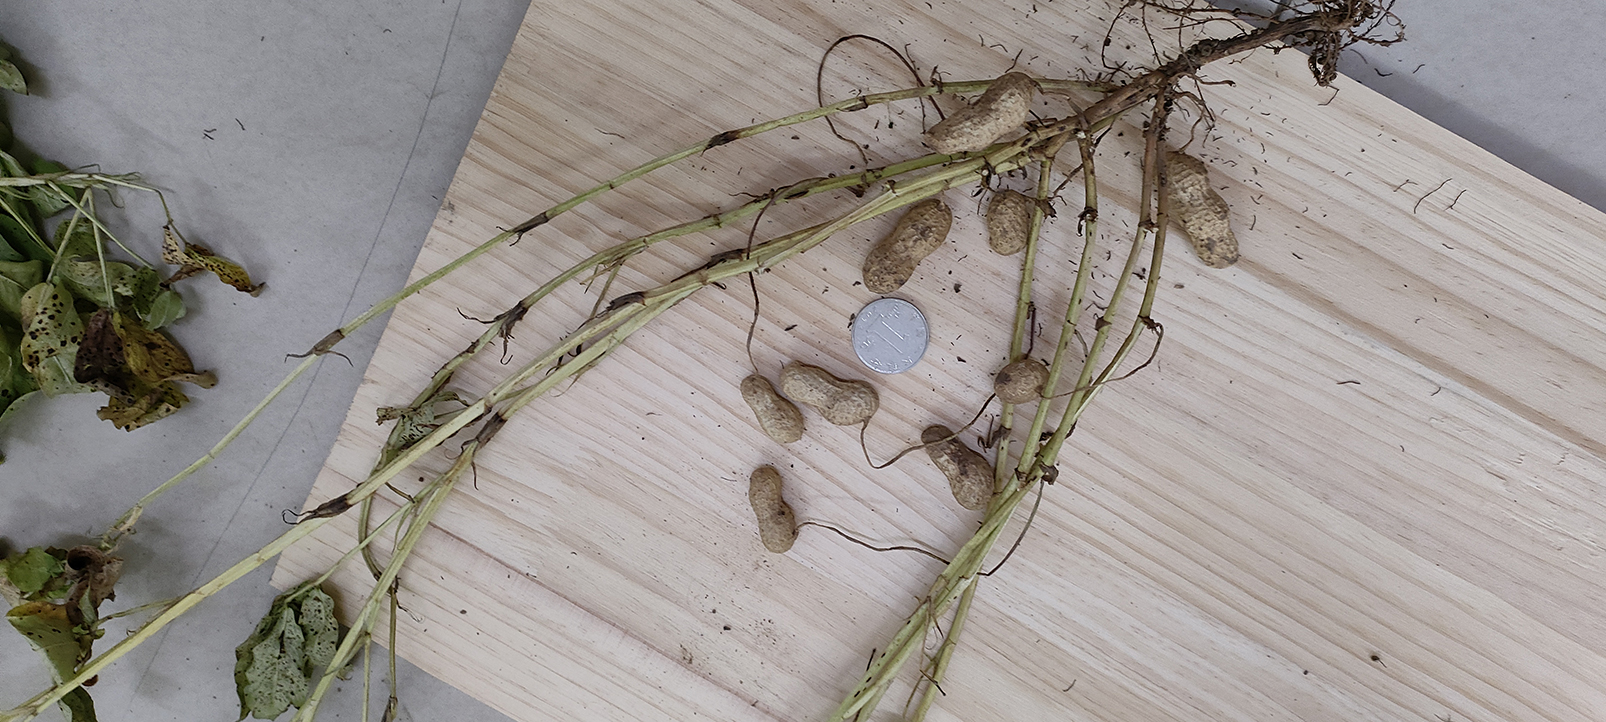h: (1160, 147, 1240, 266), (926, 70, 1034, 155), (864, 198, 952, 296), (781, 359, 878, 426), (739, 375, 804, 444), (751, 467, 798, 553), (984, 189, 1031, 257), (994, 359, 1049, 404)
l: (920, 424, 996, 511)
